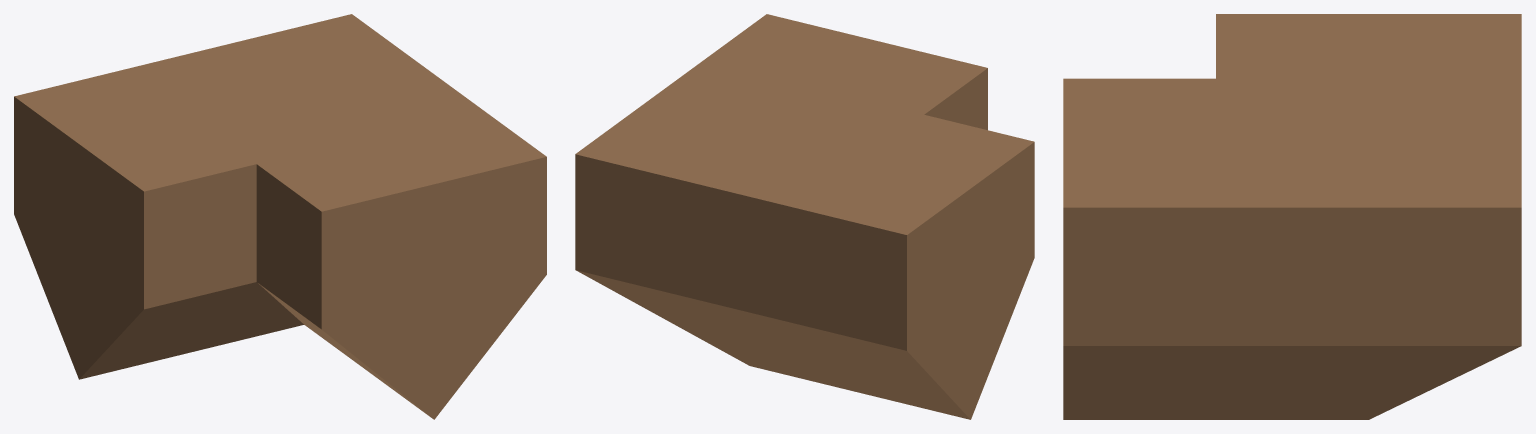
File: Stairs_Indoor_Balcony_Handrail_Outer_Joint.obj
3 renders of one model, left to right at view 1: azimuth 30°, elevation 25°; view 2: azimuth 150°, elevation 25°; view 3: azimuth 270°, elevation 25°, orthographic. The views are drawn at different scales.
Parts seen in each view (by area): view 1: object1; view 2: object1; view 3: object1.
Boxes of the visible parts, left/top/right/bottom form: object1: left=14, top=14, right=546, bottom=419; object1: left=575, top=14, right=1034, bottom=419; object1: left=1063, top=14, right=1521, bottom=419.
Size of the model in its own units: 0.15 by 0.1 by 0.15.
